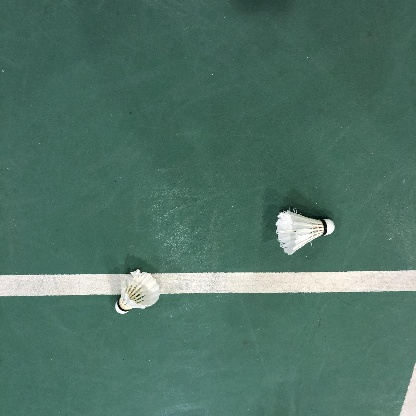ball_single: (275, 210, 335, 254), (115, 269, 160, 314)
